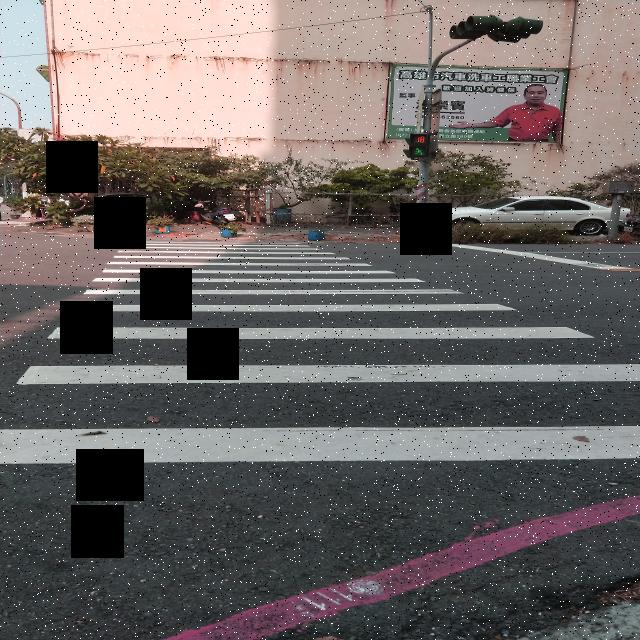zebra_crossing: (0, 244, 640, 479)
